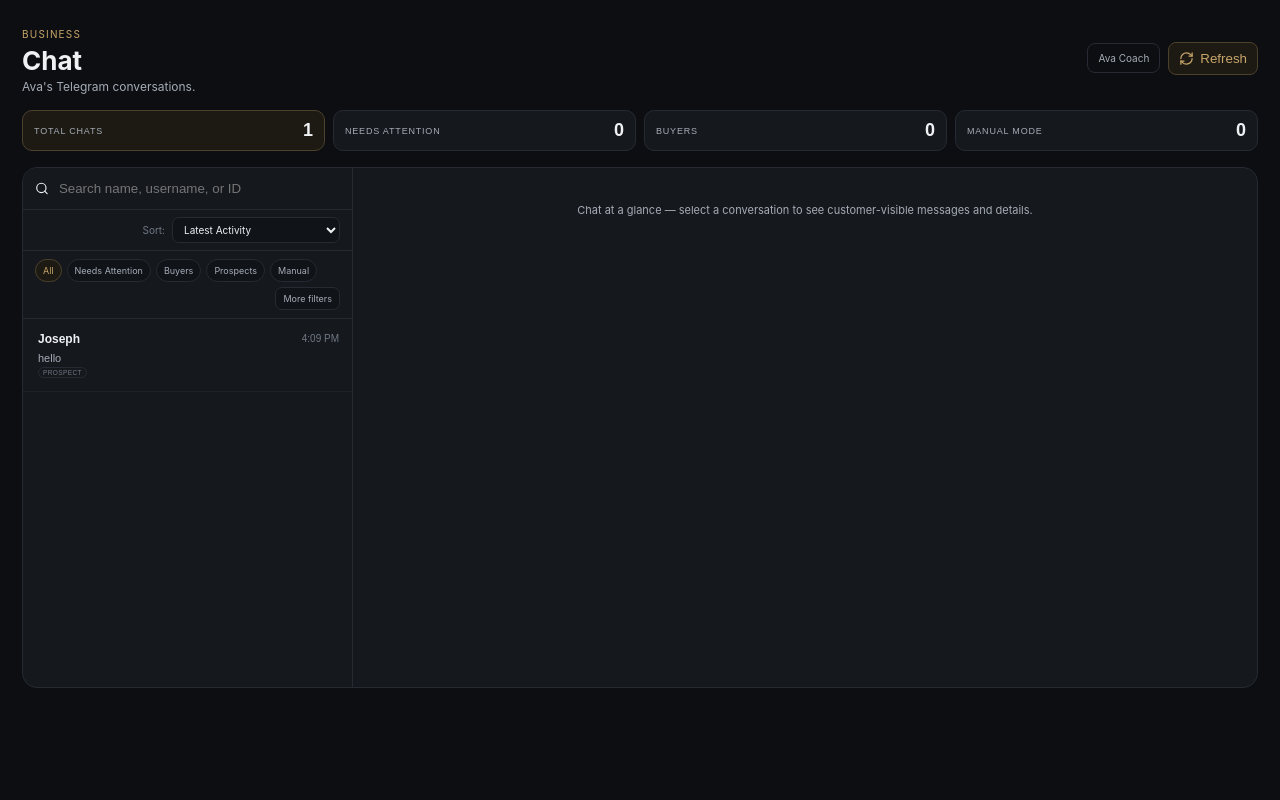
Test: PPV Escalation intelligence › renders backend stage BACKOFF verbatim
Click the button "Joseph hello PROSPECT 4:09 PM" at coordinates (59, 339), box [23,319,352,392]
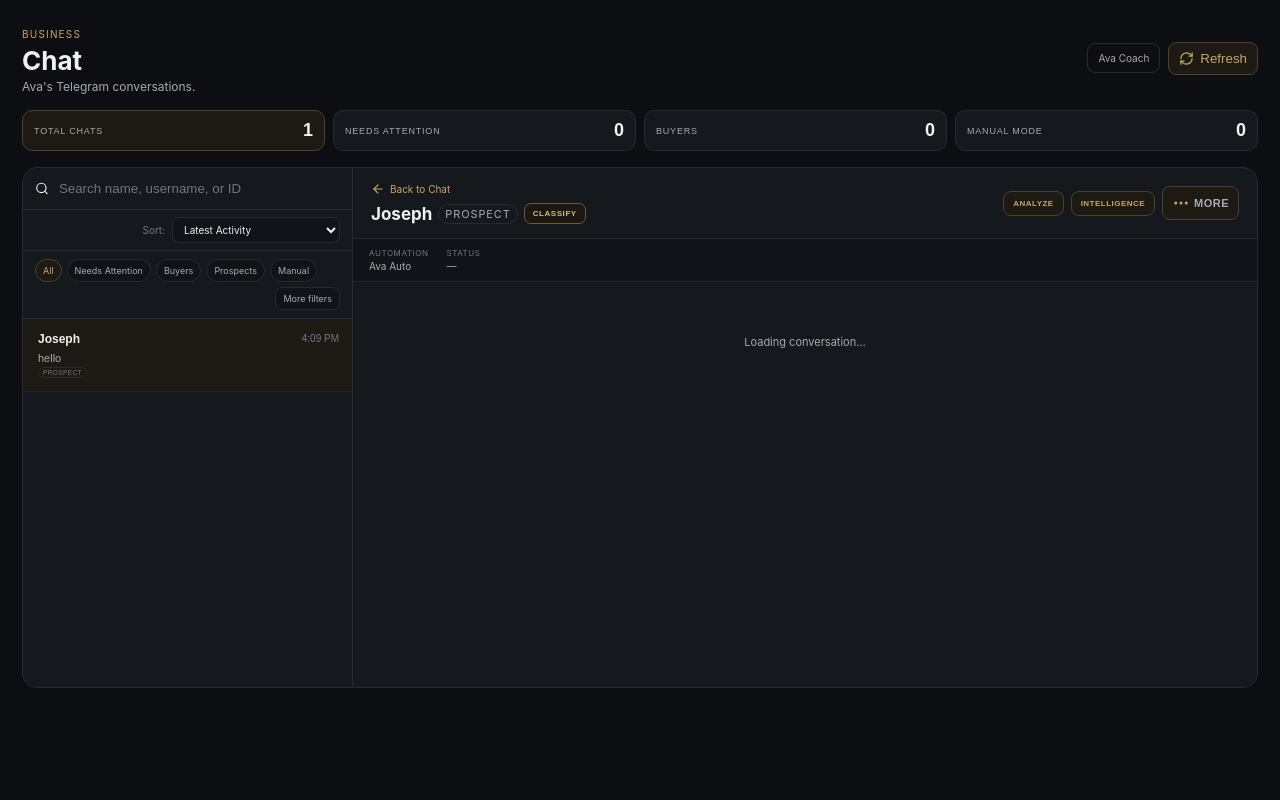
Click the button with aria-label "Open Customer Intelligence" at coordinates (1113, 203), box [1071,190,1155,216]
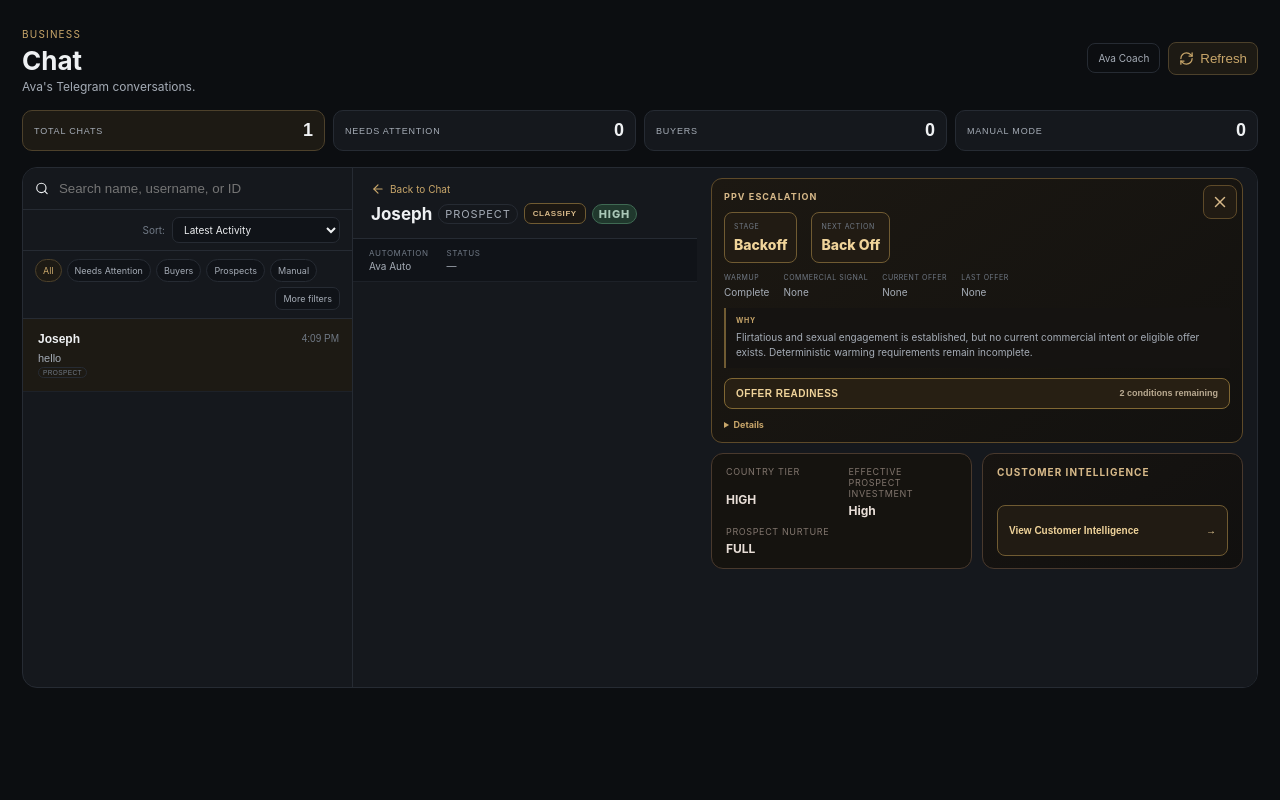
Check: the element named "Customer Intelligence" is shown, box [827,168,1257,687]
Check: the element "PPV Escalation" shows "Backoff", box [734,236,787,253]
